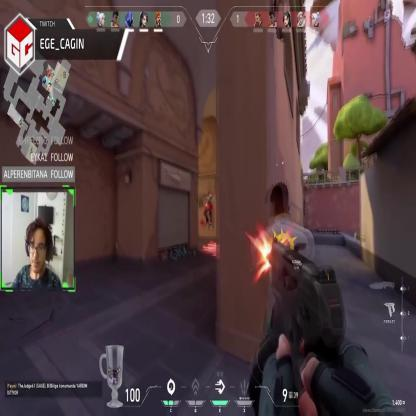enemy: (204, 191, 214, 227)
enemy_head: (208, 191, 210, 197)
